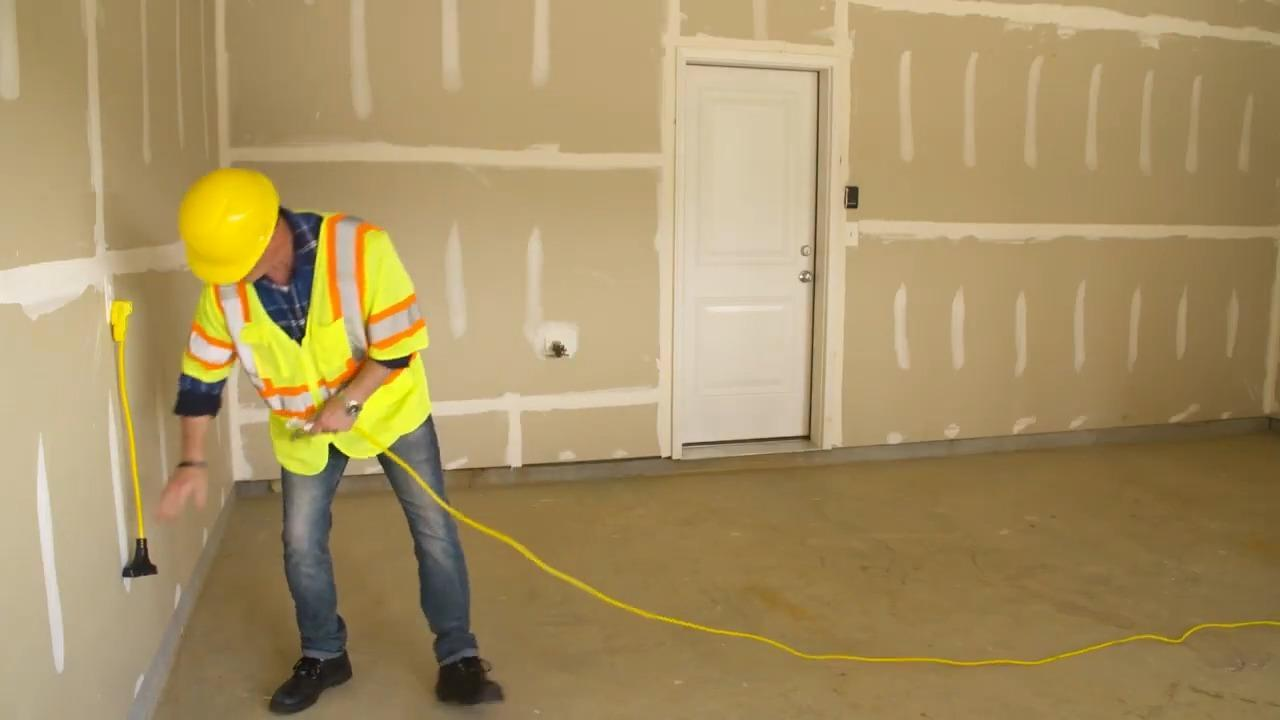Helmet: (175, 168, 280, 282)
Person: (151, 164, 508, 710)
Safety Boot: (269, 656, 354, 710), (433, 661, 511, 709)
Safety Vest: (213, 251, 427, 439)
bare-arms: (165, 464, 219, 520), (316, 389, 364, 434)
